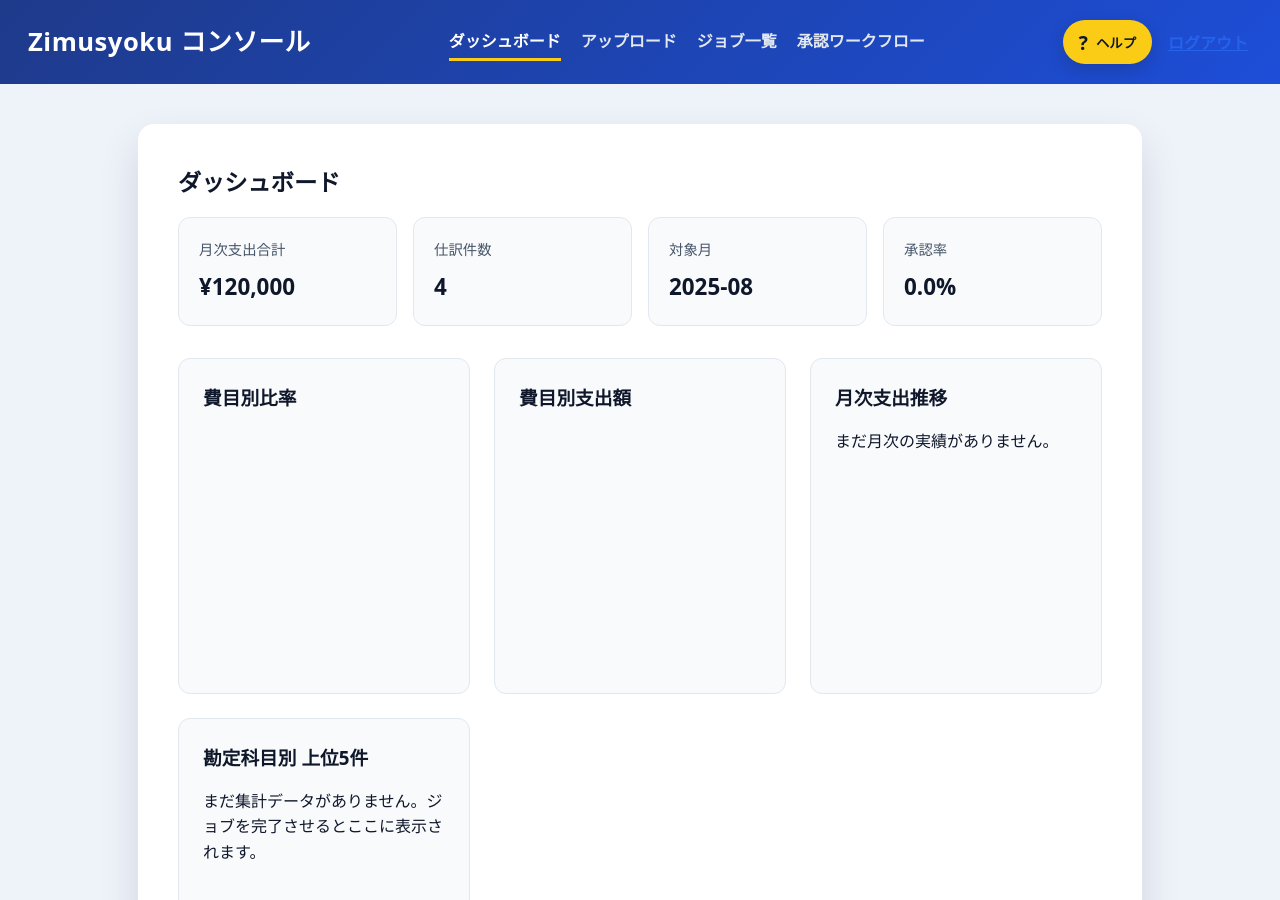
Test case: App shell › logs out and returns to login view
The width and height of the screenshot is (1280, 900).
Expected: the heading "Zimusyoku コンソール" is shown, x1=28 y1=22 x2=311 y2=62
Step 1. Click the button "ログアウト" → x=1208, y=42, box x1=1164 y1=22 x2=1252 y2=62
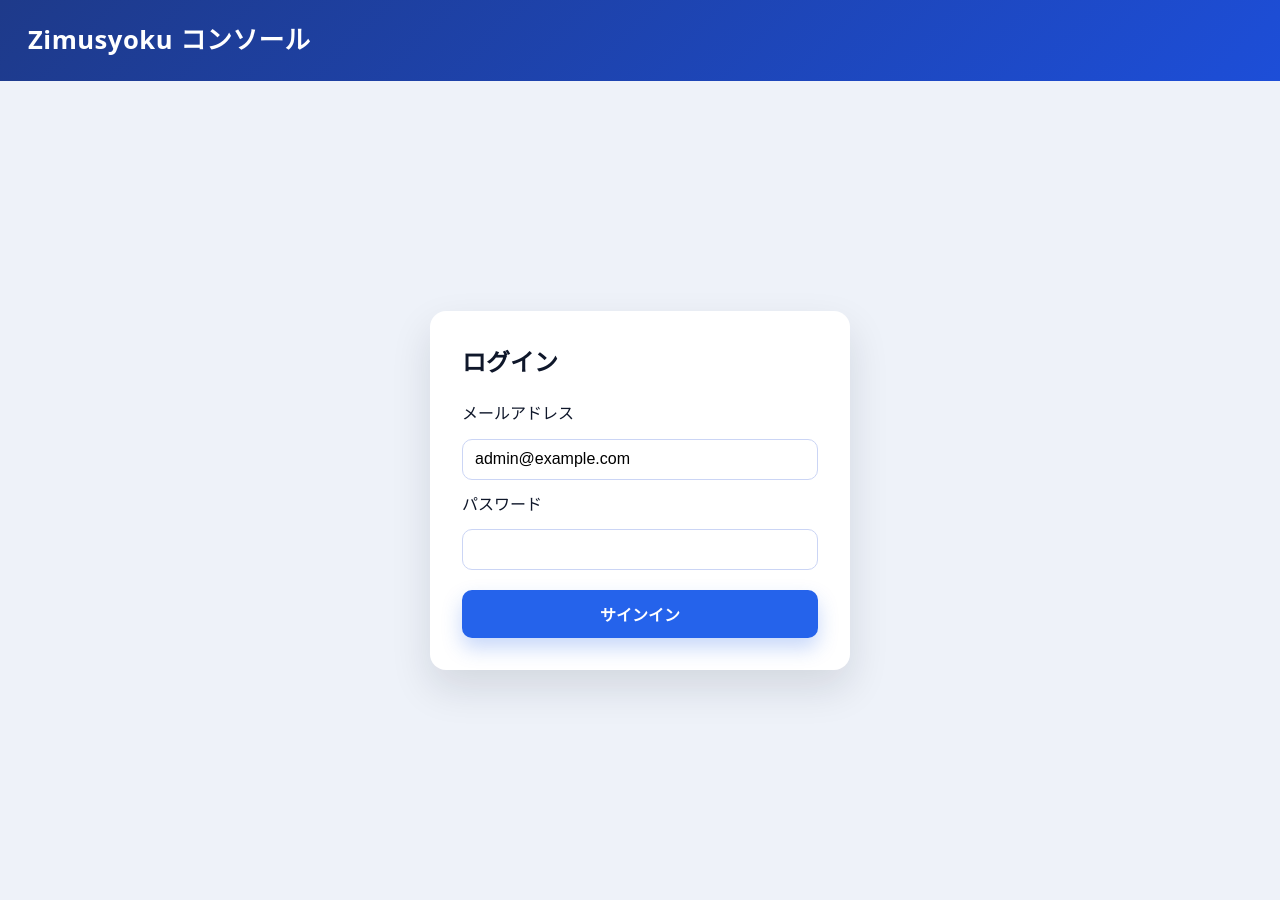
Now the heading "ログイン" is shown, box x1=462 y1=345 x2=558 y2=378
